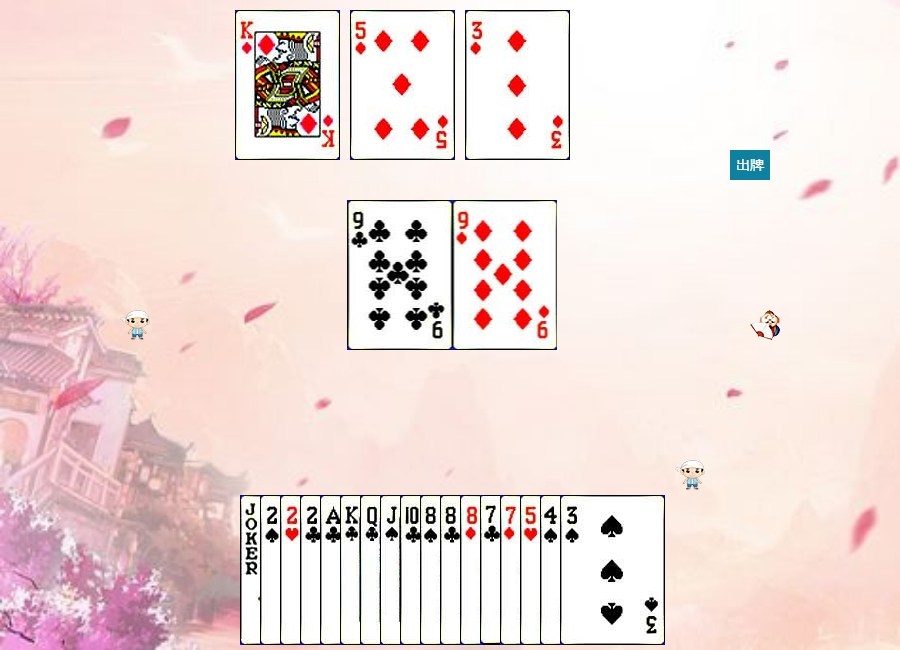10~2: (400, 495, 505, 645)
11~4: (380, 495, 485, 645)
12~2: (360, 495, 465, 645)
13~1: (235, 10, 340, 160)
13~2: (340, 495, 445, 645)
14~2: (320, 495, 425, 645)
15~2: (300, 495, 405, 645)
15~3: (280, 495, 385, 645)
15~4: (260, 495, 365, 645)
17~3: (240, 495, 345, 645)
3~1: (465, 10, 570, 160)
3~4: (560, 495, 665, 645)
4~4: (540, 495, 645, 645)
5~1: (350, 10, 455, 160)
5~3: (520, 495, 625, 645)
7~1: (500, 495, 605, 645)
7~2: (480, 495, 585, 645)
8~1: (460, 495, 565, 645)
8~2: (440, 495, 545, 645)
8~4: (420, 495, 525, 645)
9~1: (453, 200, 558, 350)
9~2: (348, 200, 453, 350)
